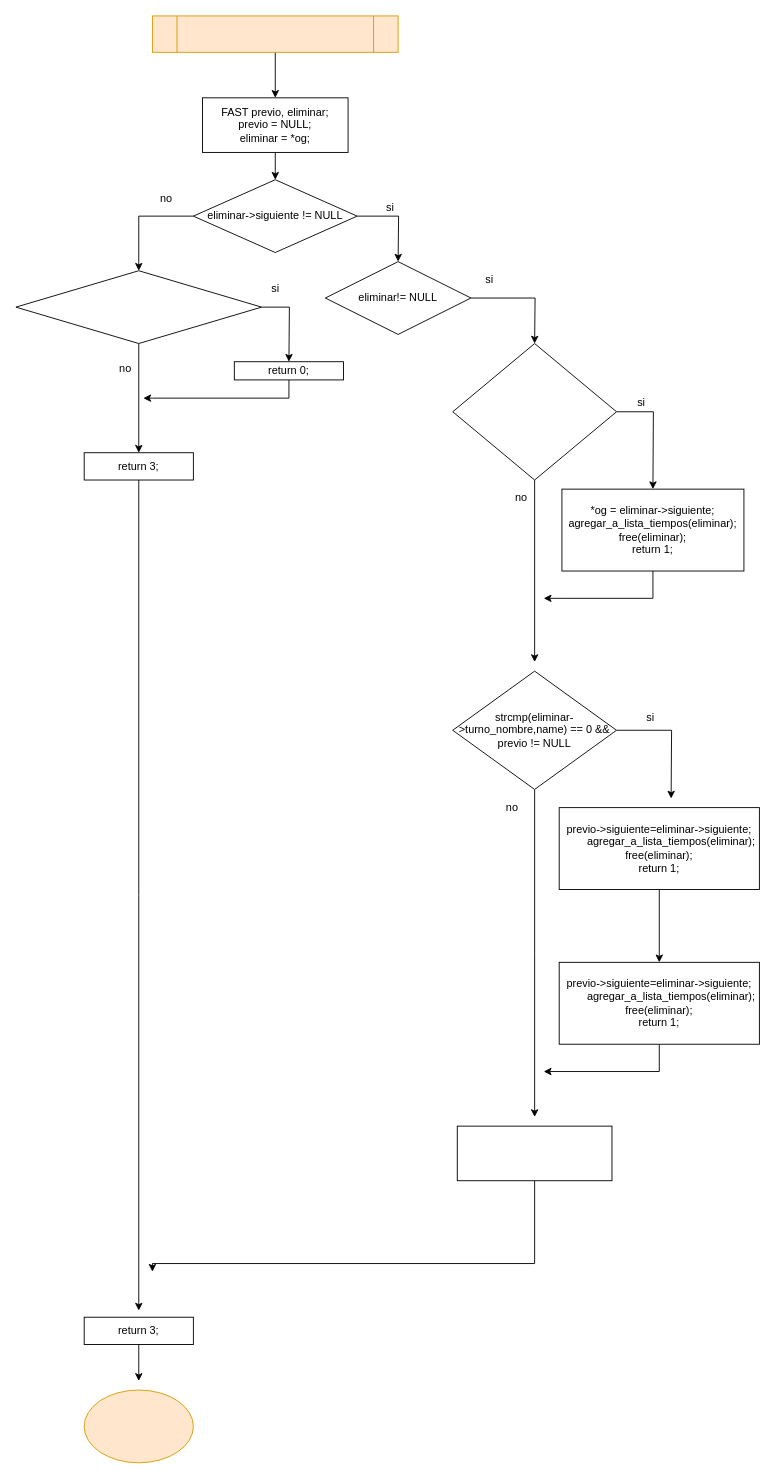
This 775x1479 diagram has some shape labels left out. The shapes that lost their labels are listed below. From the top down, each one's centre as x and y in pixels, then its label:
the point at 275,33: elemi_fast(char name[5],FAST *og)
the point at 138,307: strcmp(eliminar->turno_nombre,name) == 0
the point at 534,411: strcmp(eliminar->turno_nombre,name) == 0 && previo == NULL
the point at 534,1153: previo = eliminar; eliminar= eliminar->siguiente;
the point at 138,1426: FIN
